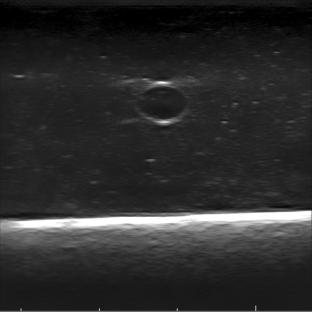vessel: (134, 80, 189, 125)
